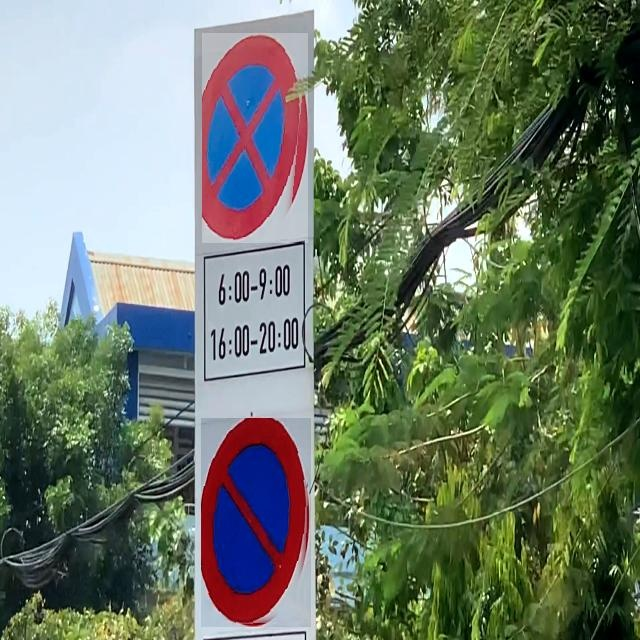bien_cam: (201, 418, 311, 627), (202, 34, 308, 244)
